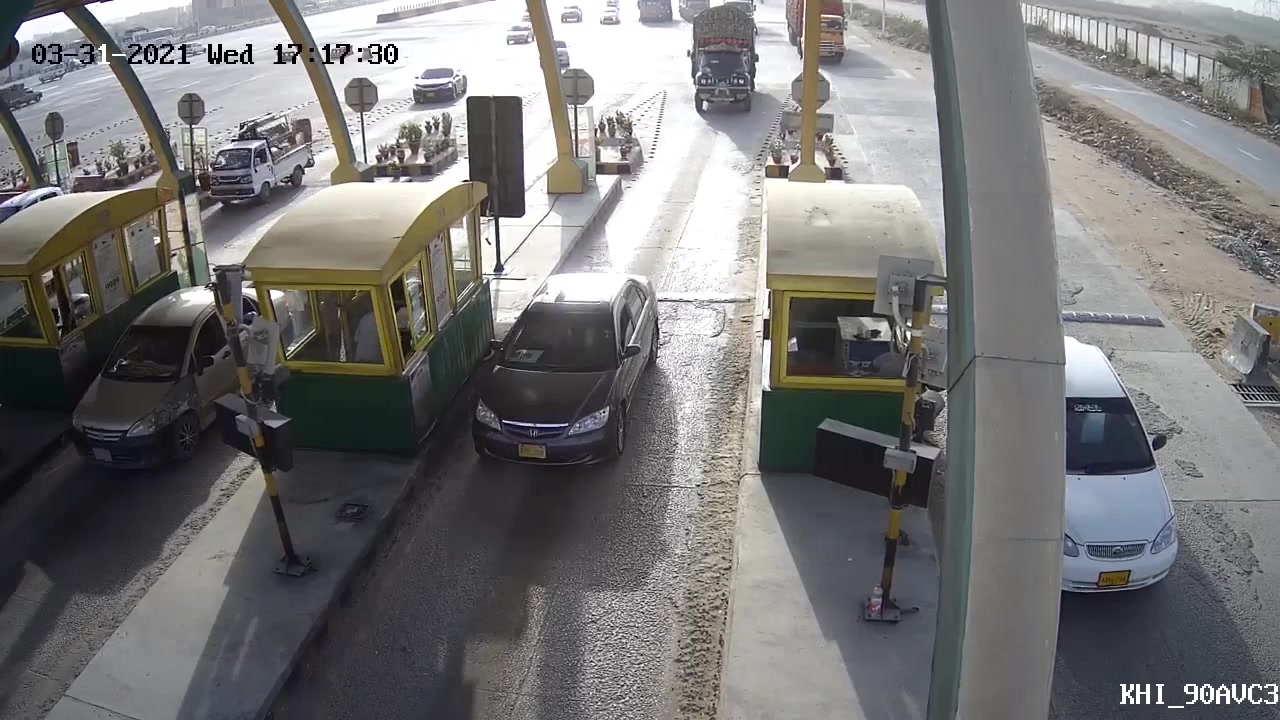F1: (465, 266, 661, 482)
